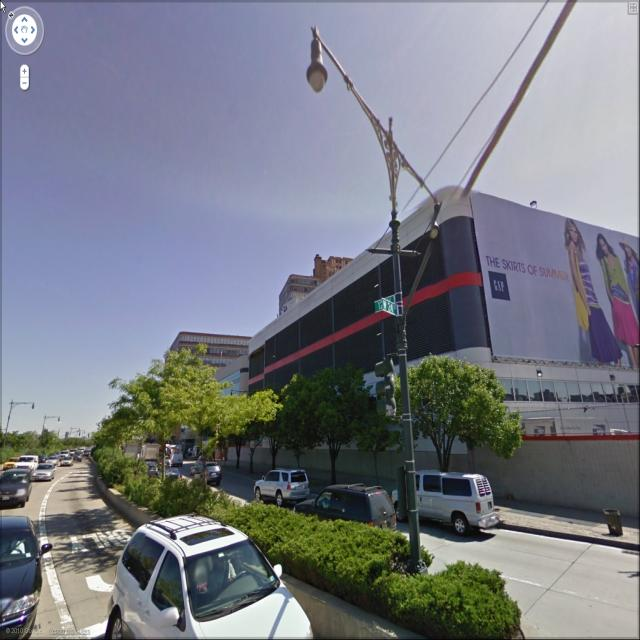b_1: (147, 321, 268, 385), (272, 234, 355, 302)
b_2: (228, 204, 640, 440)
